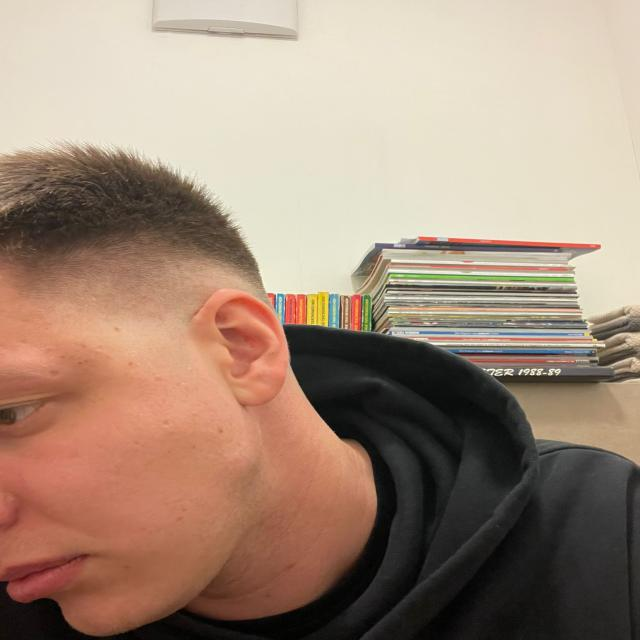JeremiasDiaz: (0, 153, 417, 640)
